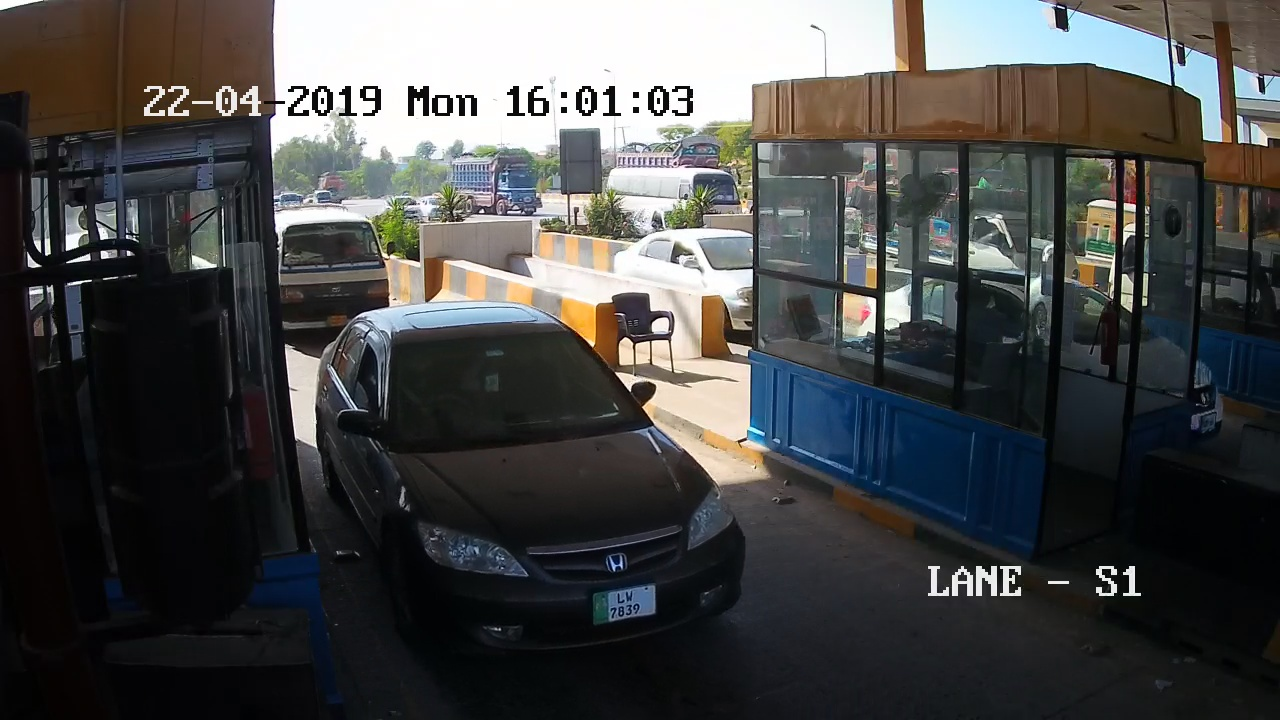car: (301, 307, 769, 707), (277, 207, 386, 298)
